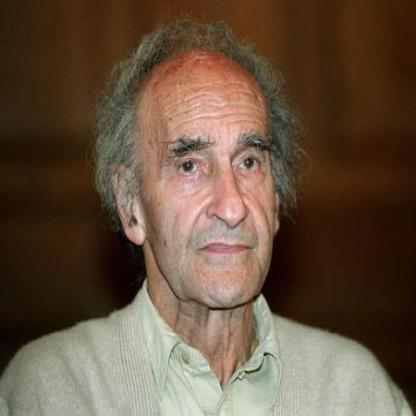face: (140, 47, 294, 316)
